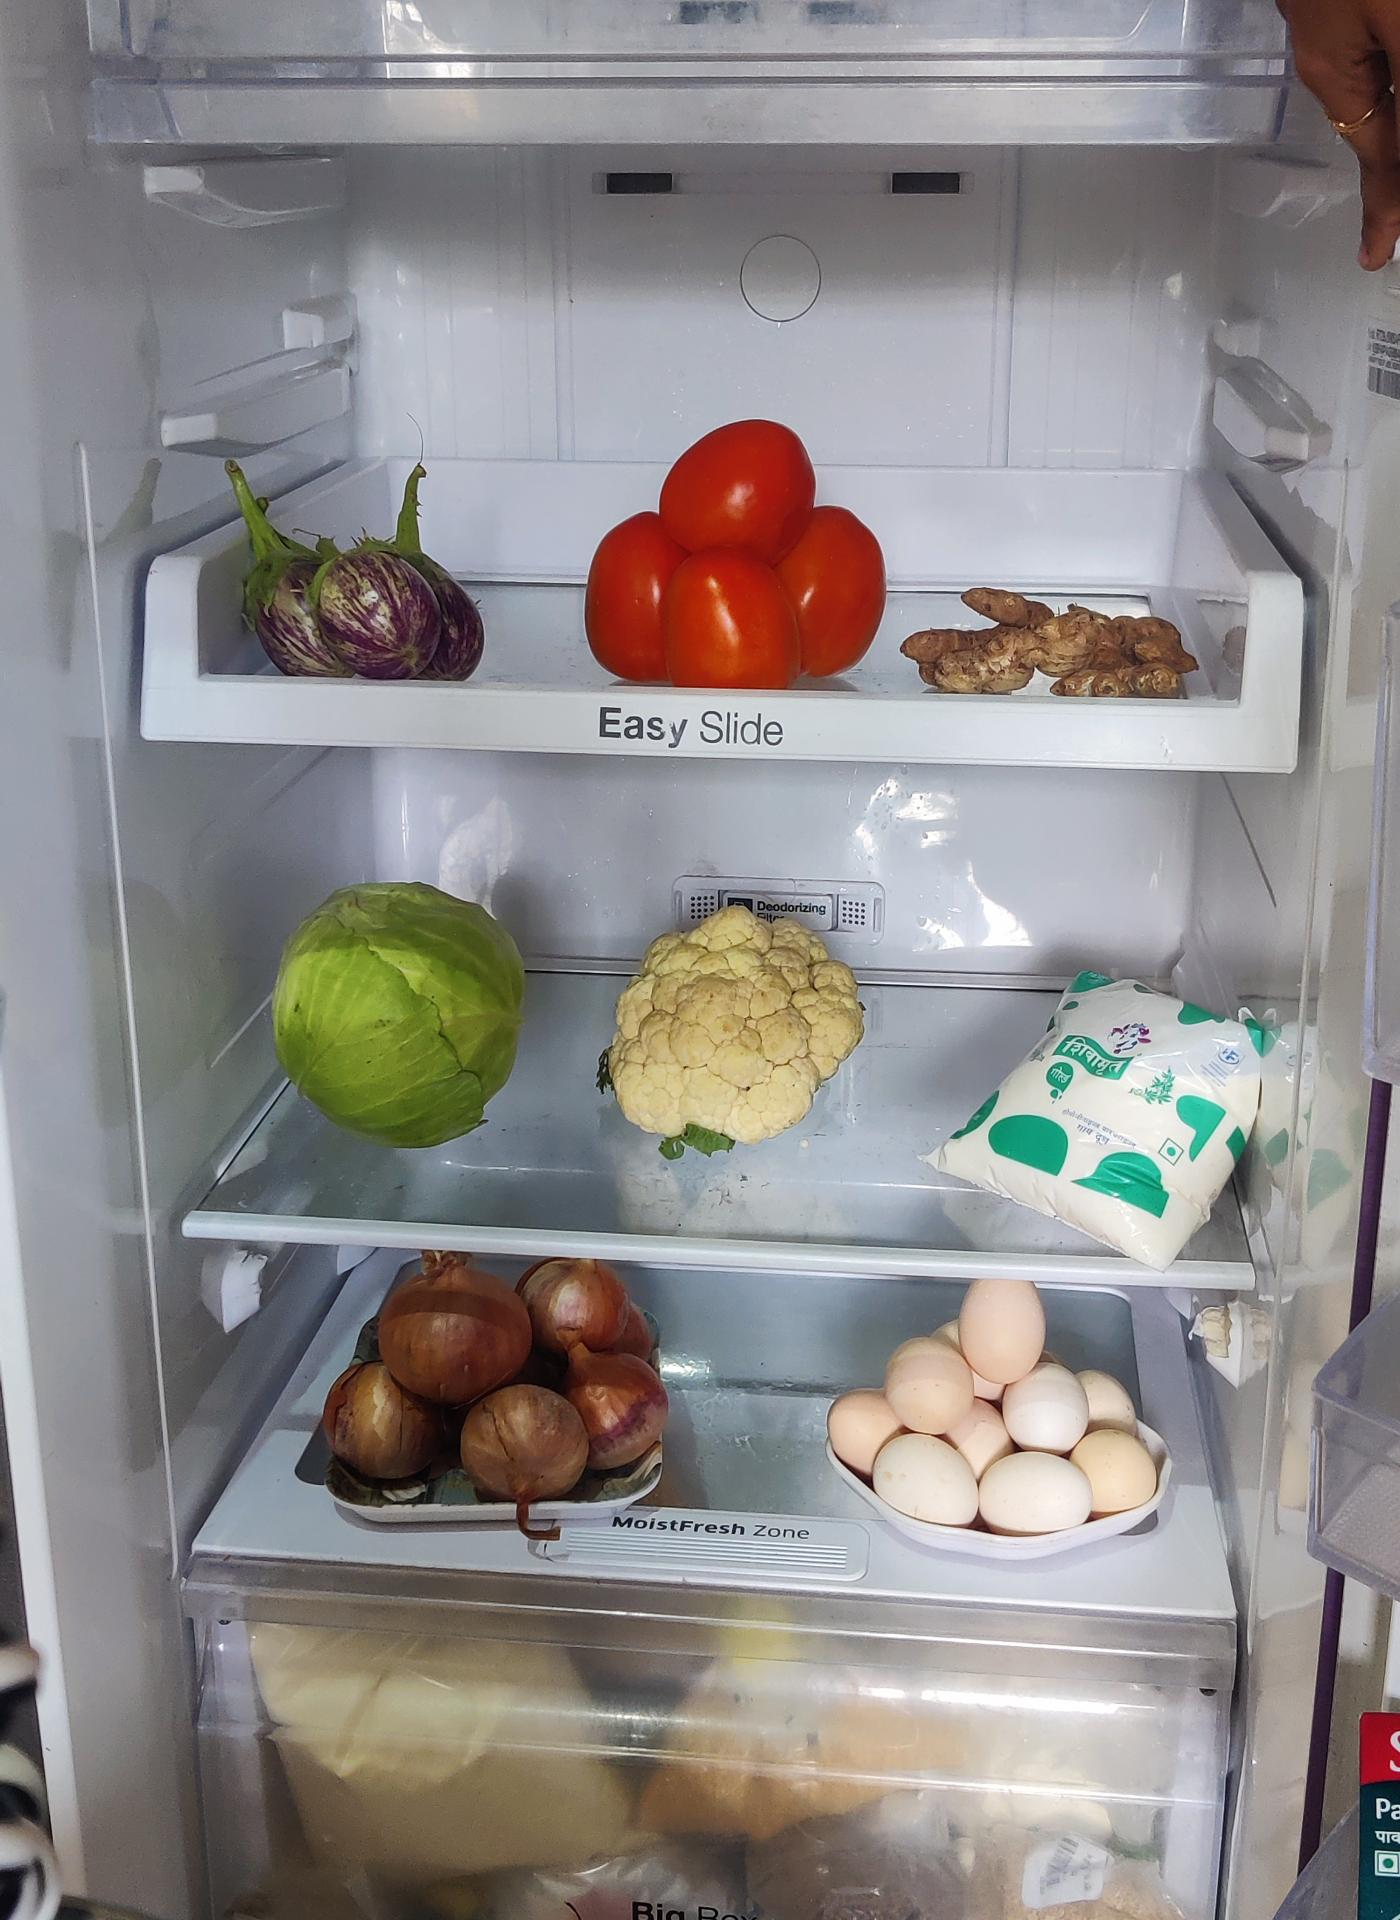brinjal: (252, 508, 477, 684)
cabbage: (276, 875, 532, 1137)
cauliflower: (608, 911, 875, 1148)
egg: (822, 1267, 1160, 1522)
ginger: (901, 584, 1211, 701)
milk: (936, 961, 1270, 1254)
onion: (321, 1263, 669, 1507)
tomato: (589, 417, 887, 689)
